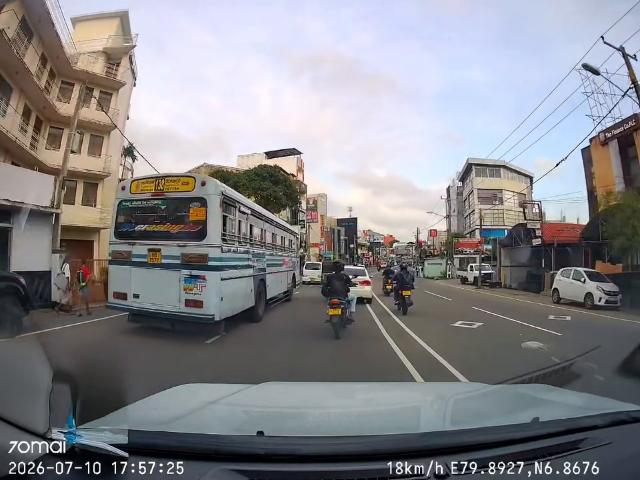illegal overtaking: (390, 258, 423, 322)
